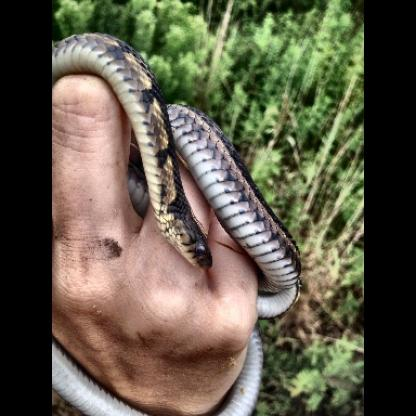Snake: (54, 32, 306, 322), (127, 121, 221, 277)
